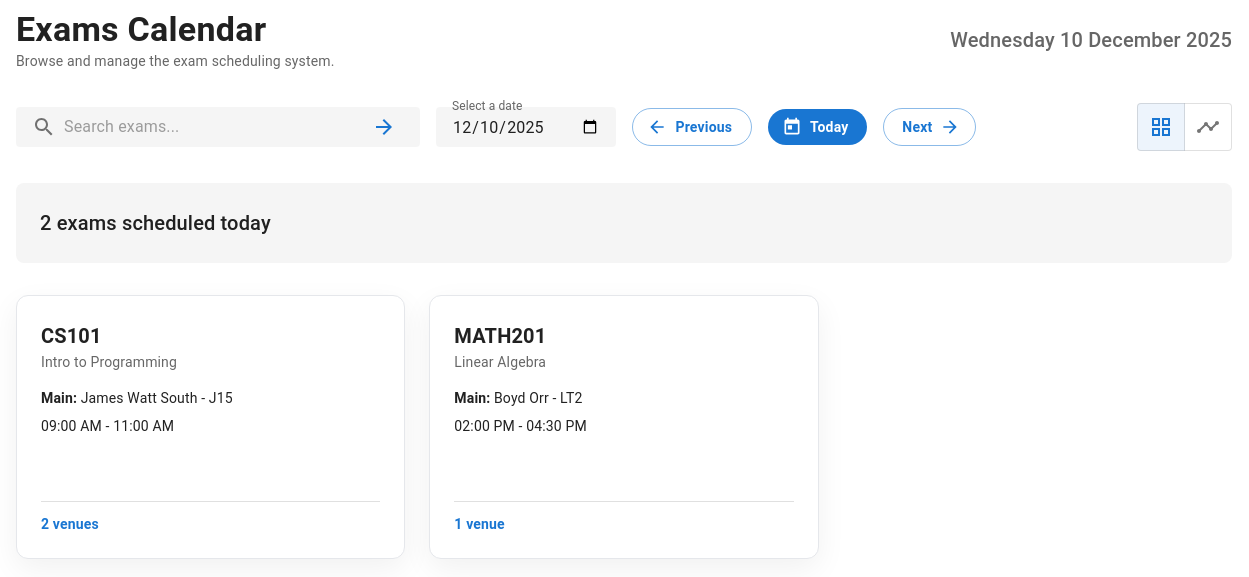
Test: AdminCalendar › filters exams by search query
Type "linear" into the field with placeholder "Search exams..." at (214, 127), box [64,111,364,143]
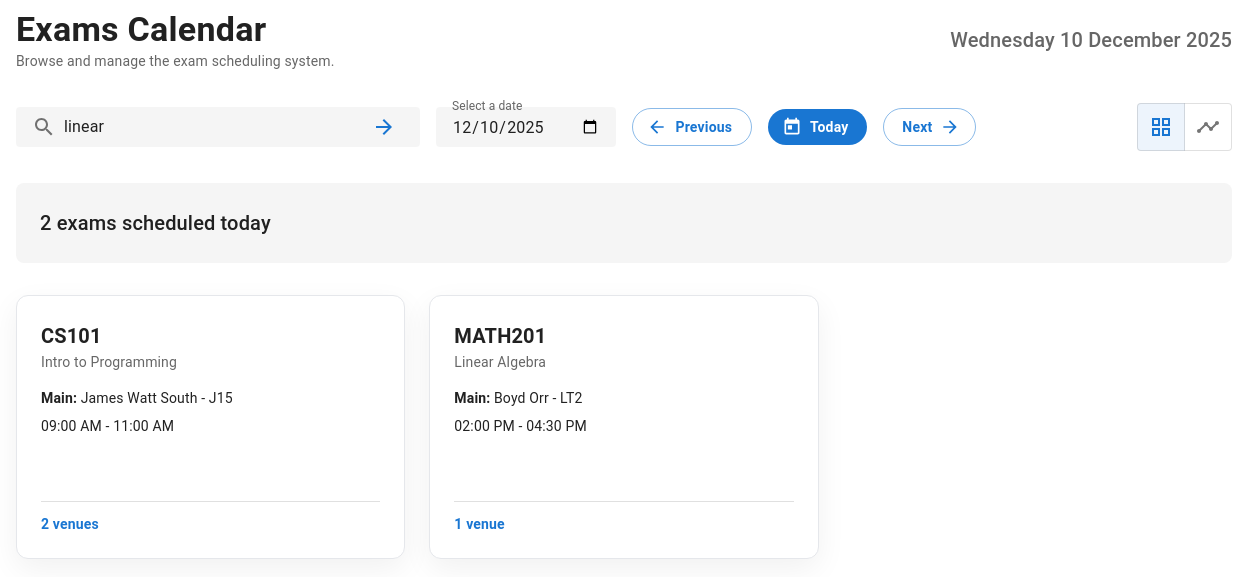
Click the button named "apply search" at (384, 127), box [364,107,404,147]
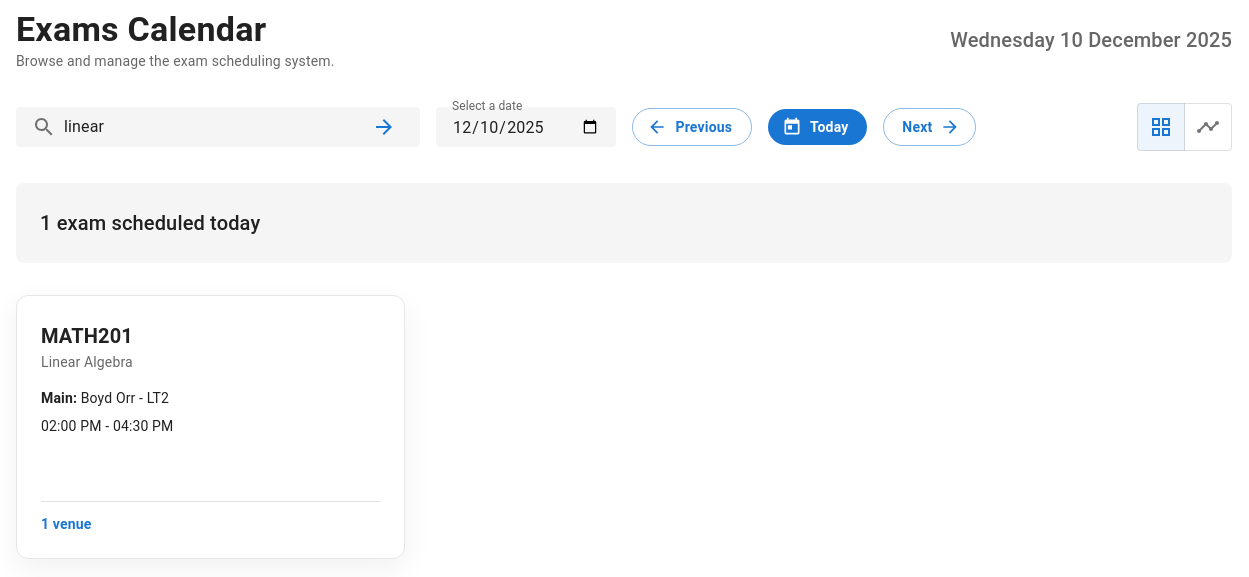
Expected: the heading "MATH201" is shown, [41,324,133,348]
Expected: the heading "CS101" is gone
